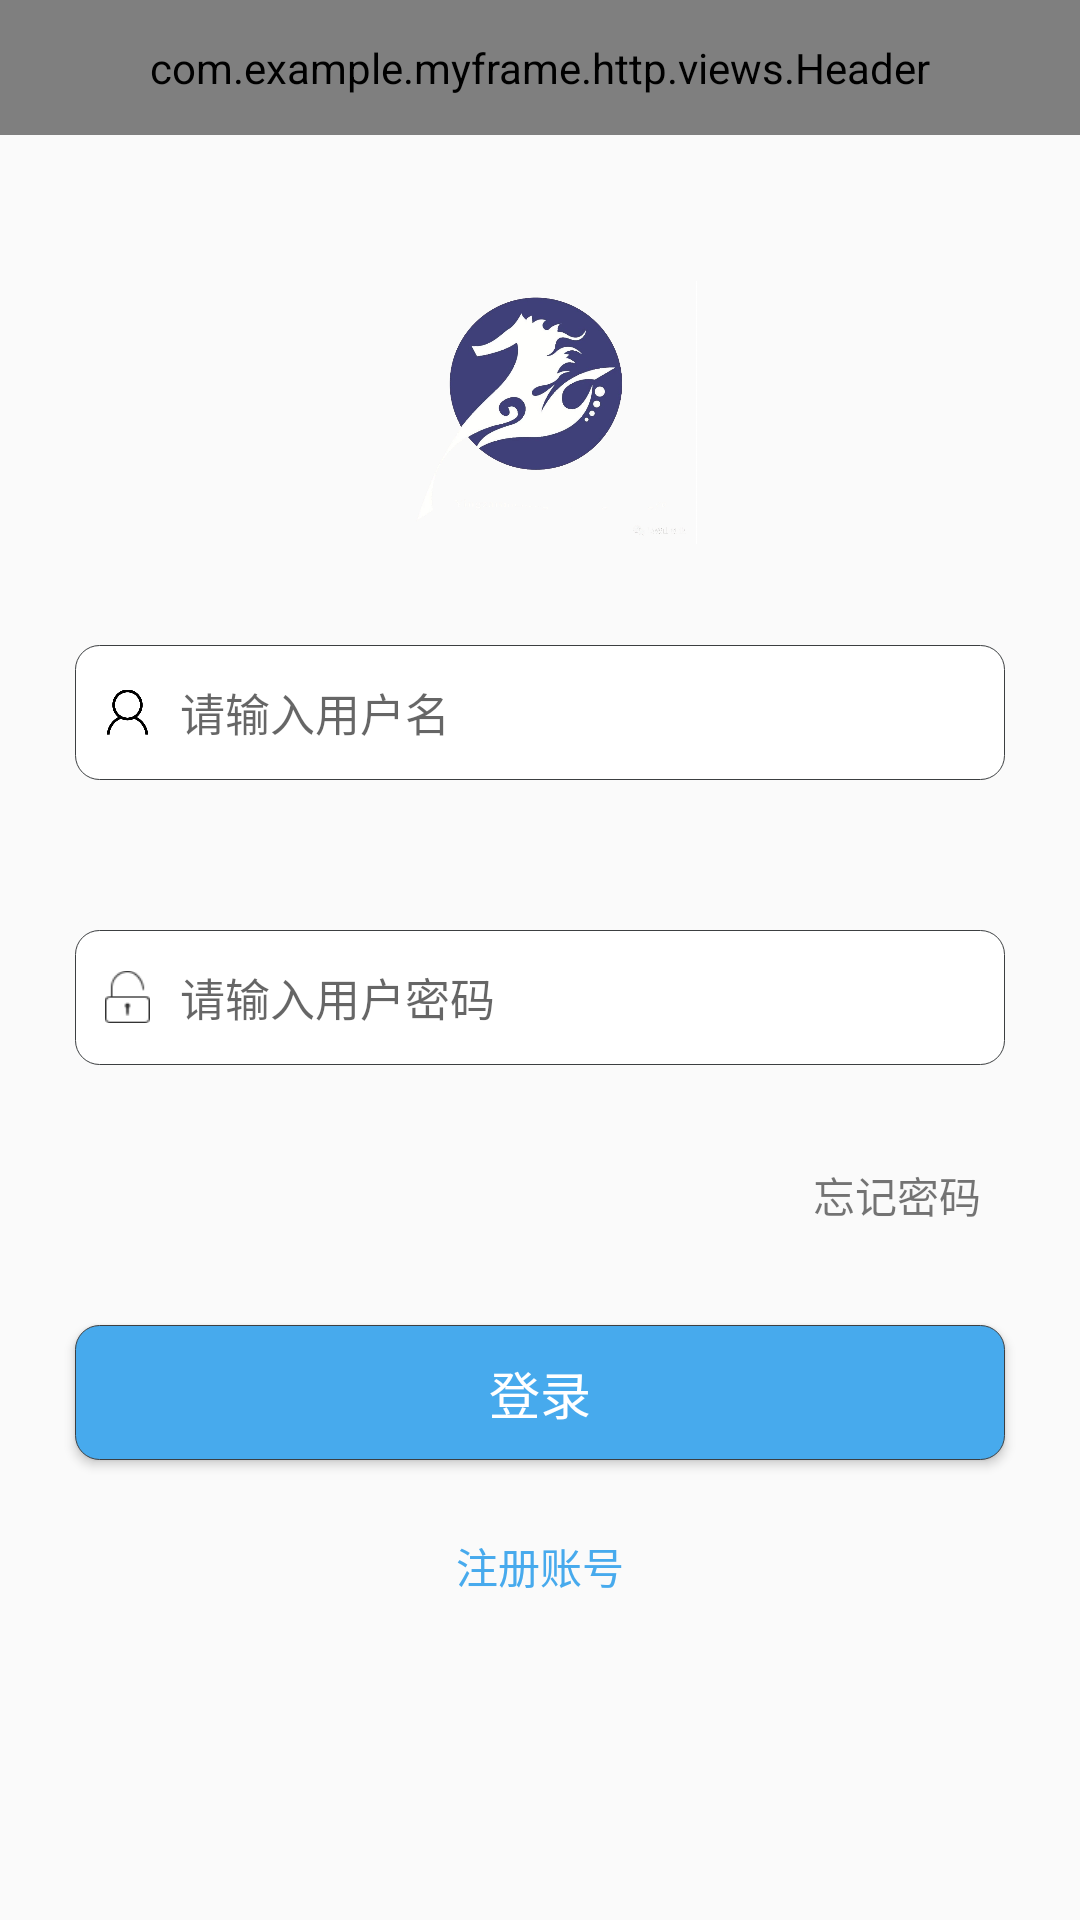

Screen size 1080*1920. Icon name, then its box in pixels as (x1=x1, y1=y1, x2=x2, y2=y2):
password: (x1=105, y1=971, x2=150, y2=1023)
username: (x1=107, y1=690, x2=148, y2=735)
